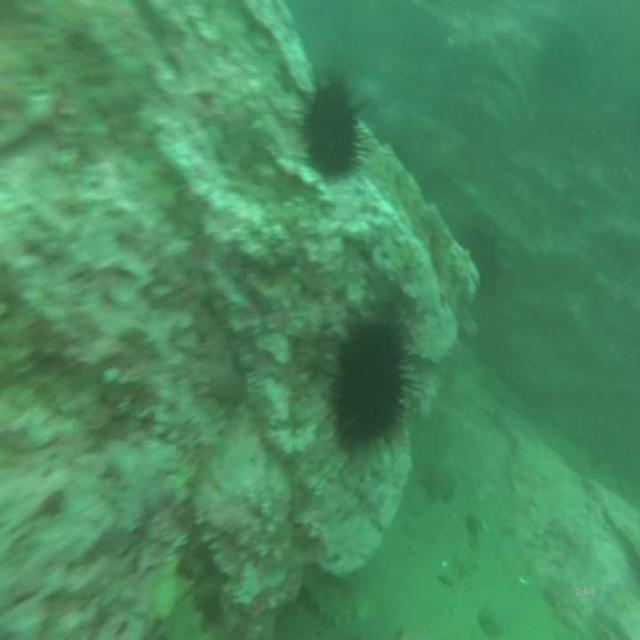echinus: (326, 305, 421, 463), (294, 68, 363, 182)
holothurian: (300, 564, 385, 640), (150, 575, 230, 640)
